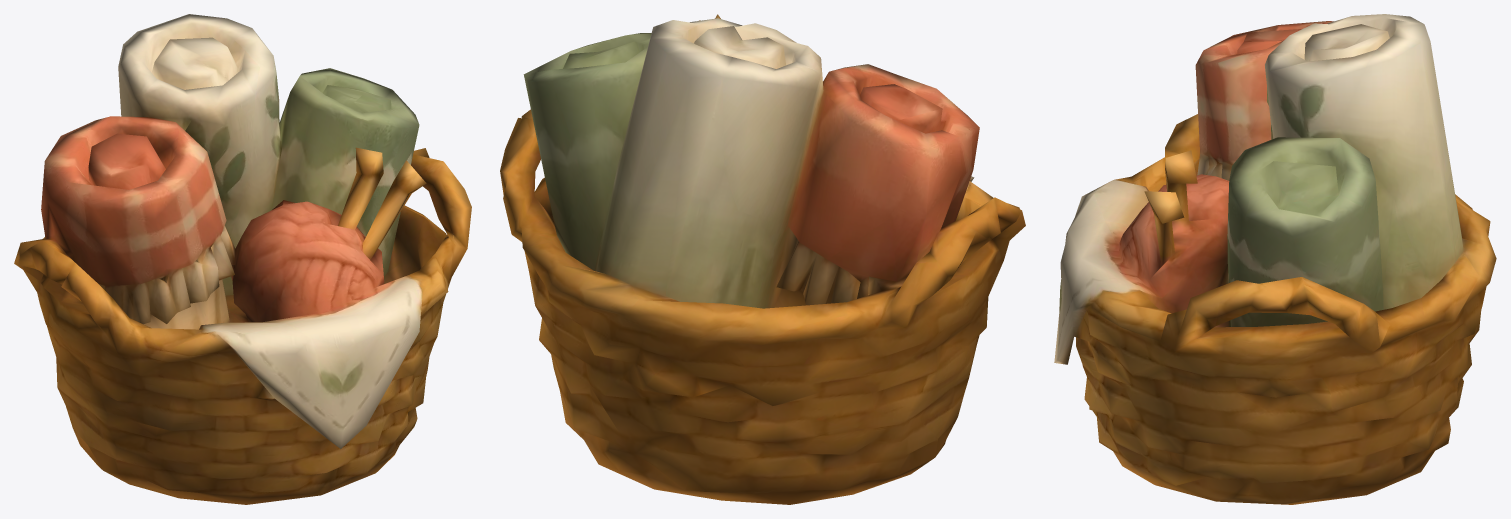
The model's file is basket.glb.
The picture shows the model from 3 angles, left to right: view 1: azimuth 30°, elevation 25°; view 2: azimuth 150°, elevation 25°; view 3: azimuth 270°, elevation 25°; orthographic projection. The views are drawn at different scales.
Visible parts, largest first — view 1: tripo_node_5a674100-7dfe-43b0-b1dd-175b411bf173; view 2: tripo_node_5a674100-7dfe-43b0-b1dd-175b411bf173; view 3: tripo_node_5a674100-7dfe-43b0-b1dd-175b411bf173.
Boxes of the visible parts, bbox=[...] form: tripo_node_5a674100-7dfe-43b0-b1dd-175b411bf173: bbox=[14, 14, 471, 504]; tripo_node_5a674100-7dfe-43b0-b1dd-175b411bf173: bbox=[500, 14, 1025, 504]; tripo_node_5a674100-7dfe-43b0-b1dd-175b411bf173: bbox=[1054, 14, 1496, 504].
Size of the model in its own units: 1 by 0.8804 by 0.8763.
Materials: 1 (1 with a texture image).
